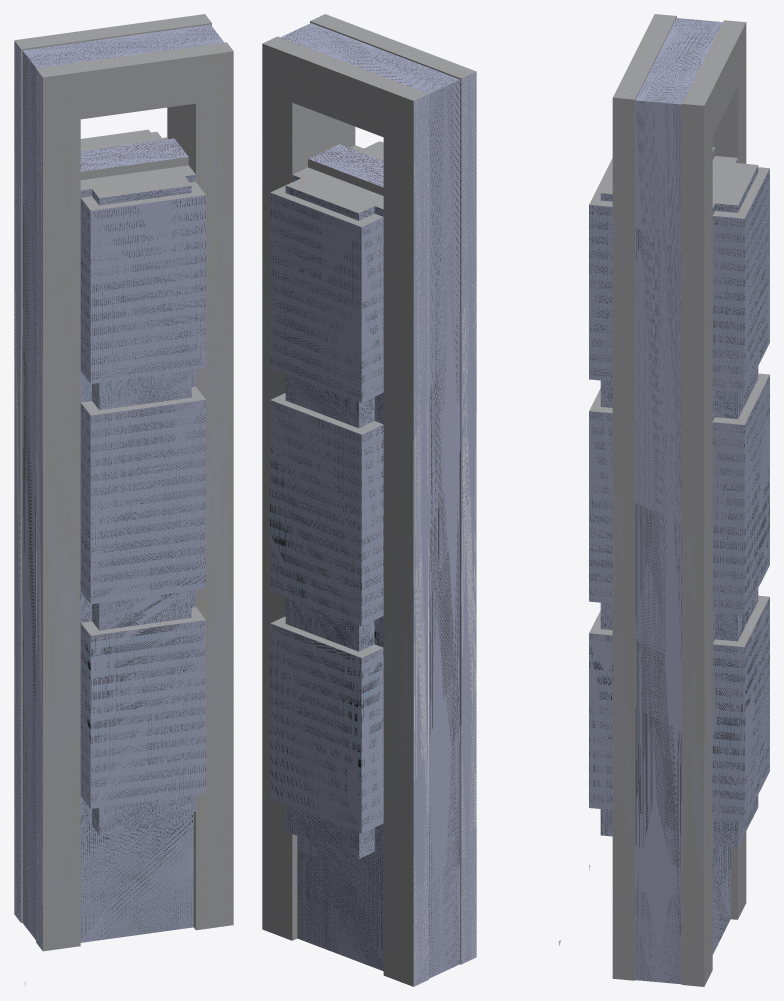
The model's file is torre_repsol_jorge2.fbx.
3 views of the same model, side by side, from view 1: azimuth 30°, elevation 25°; view 2: azimuth 150°, elevation 25°; view 3: azimuth 270°, elevation 25° (orthographic).
Visible parts, largest first — view 1: Model; view 2: Model; view 3: Model.
Boxes of the visible parts, <box> form: Model: <box>14,14,233,951</box>; Model: <box>262,14,476,986</box>; Model: <box>589,14,769,986</box>.
Size of the model in its own units: 74.4 by 262 by 48.69.
